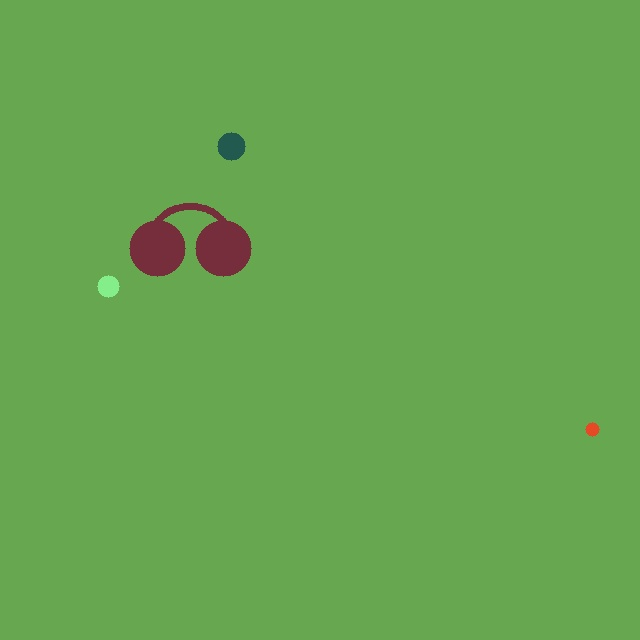over_ear: (125, 196, 255, 280)
